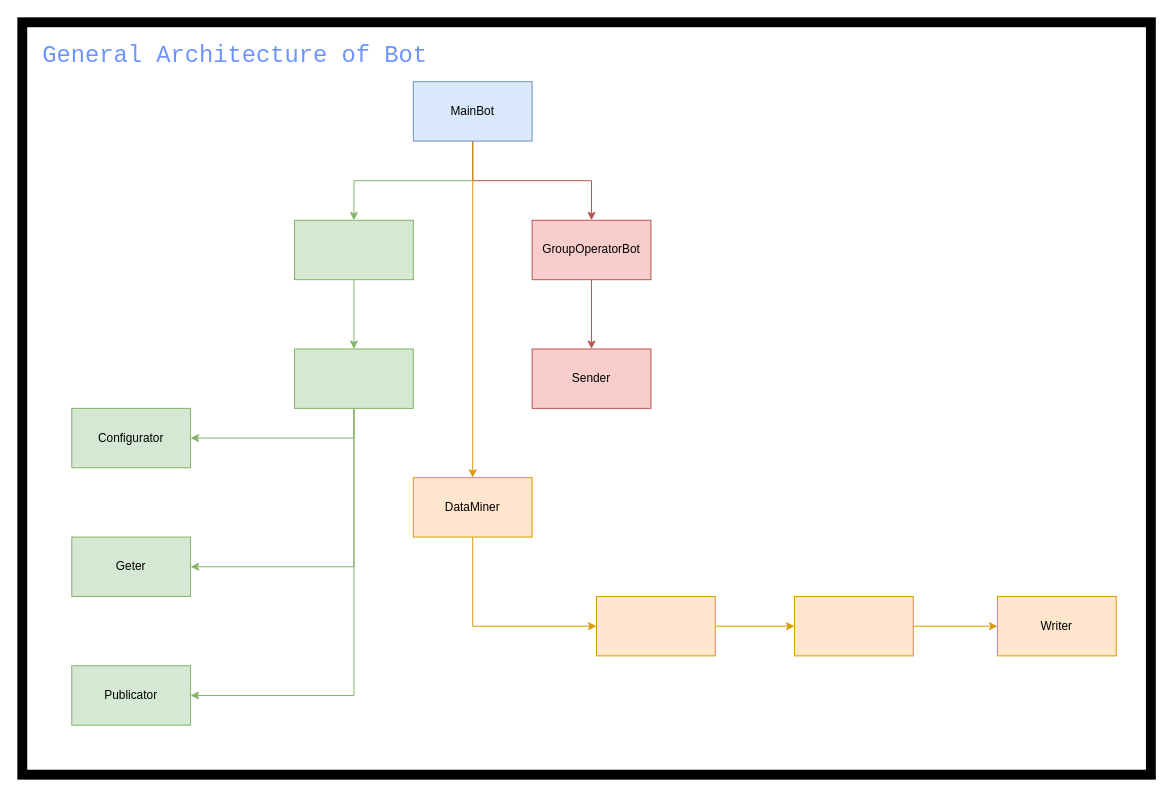
This 1172x796 diagram has some shape labels left out. Here are the shapes that lost their labels. From the top down, the box of each, then its label:
(294, 219, 413, 280): UserOperatorBot
(294, 348, 413, 408): UI
(595, 595, 715, 656): LastEventGetter
(793, 595, 913, 656): Checker
